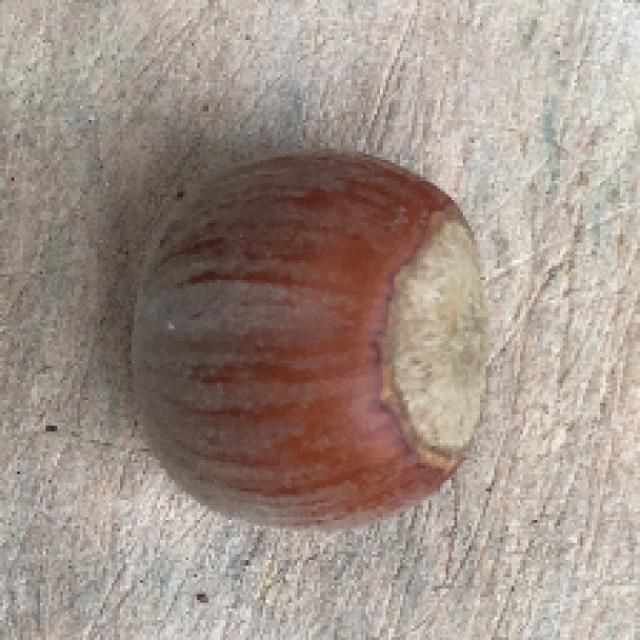QualityHazelnut: (131, 146, 494, 533)
